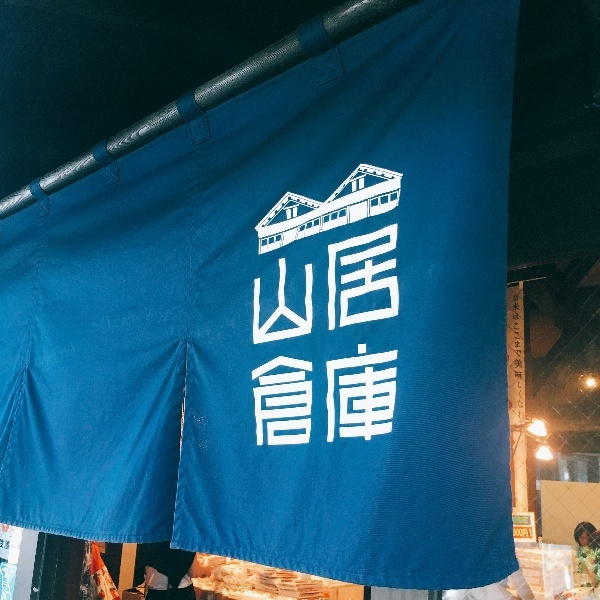text: (257, 223, 272, 347), (273, 223, 288, 347), (289, 223, 304, 347), (305, 223, 320, 347), (321, 223, 336, 347), (337, 223, 352, 347), (353, 223, 368, 347), (369, 223, 384, 347), (385, 223, 400, 347), (257, 338, 272, 448), (273, 338, 288, 448), (289, 338, 304, 448), (305, 338, 320, 448), (321, 338, 336, 448), (337, 338, 352, 448), (353, 338, 368, 448), (369, 338, 384, 448), (385, 338, 399, 448), (513, 294, 525, 410), (251, 338, 256, 448), (253, 223, 256, 347), (1, 539, 16, 552), (514, 529, 528, 538), (511, 294, 512, 410), (518, 411, 528, 420), (521, 516, 528, 525), (529, 529, 533, 538)
